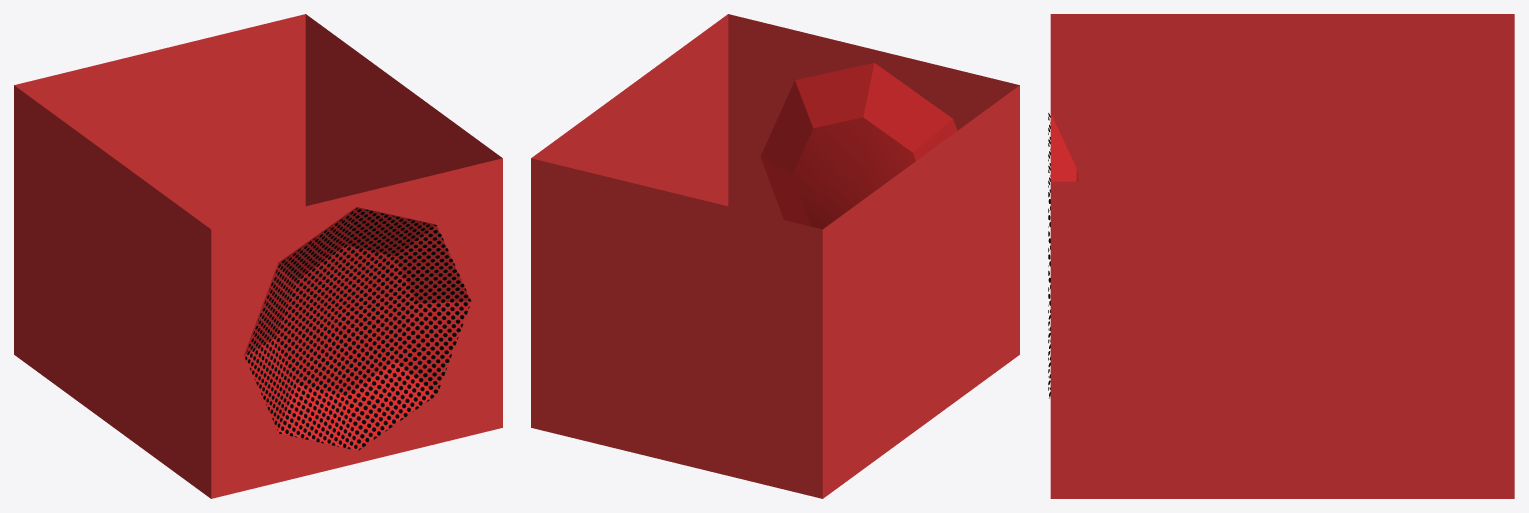
File: Itr_Obj_Speaker1_Base_05.FBX
3 views of the same model, side by side, from view 1: azimuth 30°, elevation 25°; view 2: azimuth 150°, elevation 25°; view 3: azimuth 270°, elevation 25° (orthographic). The views are drawn at different scales.
Parts seen in each view (by area): view 1: Itr_Obj_Speaker1_Base_05; view 2: Itr_Obj_Speaker1_Base_05; view 3: Itr_Obj_Speaker1_Base_05.
Boxes of the visible parts, <box> form: Itr_Obj_Speaker1_Base_05: <box>14,14,502,498</box>; Itr_Obj_Speaker1_Base_05: <box>531,14,1019,498</box>; Itr_Obj_Speaker1_Base_05: <box>1048,14,1514,498</box>.
Bounding box in the file's own units: 9.88 × 8.72 × 11.62.
